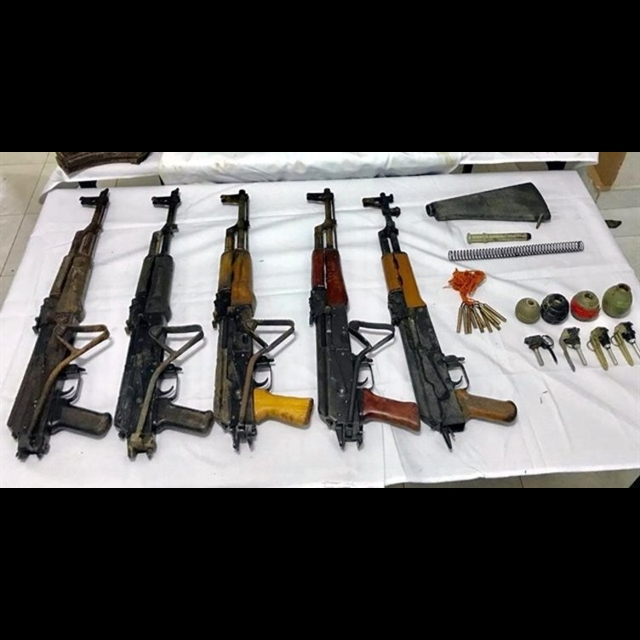AK47: (305, 186, 419, 460), (5, 186, 113, 454), (212, 188, 311, 471), (114, 192, 213, 471)
